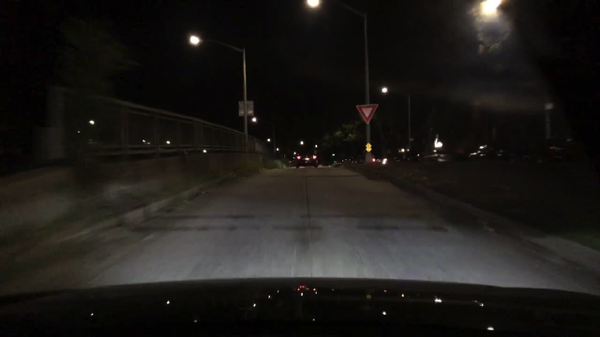car: (526, 140, 578, 166), (467, 144, 516, 162), (293, 150, 317, 169), (424, 152, 455, 162), (393, 154, 414, 162), (332, 157, 348, 166), (359, 156, 374, 164), (376, 157, 388, 166), (348, 157, 358, 164), (415, 154, 425, 161), (317, 163, 323, 167)
traffic sign: (356, 104, 379, 124), (238, 101, 251, 117), (365, 143, 372, 152)
